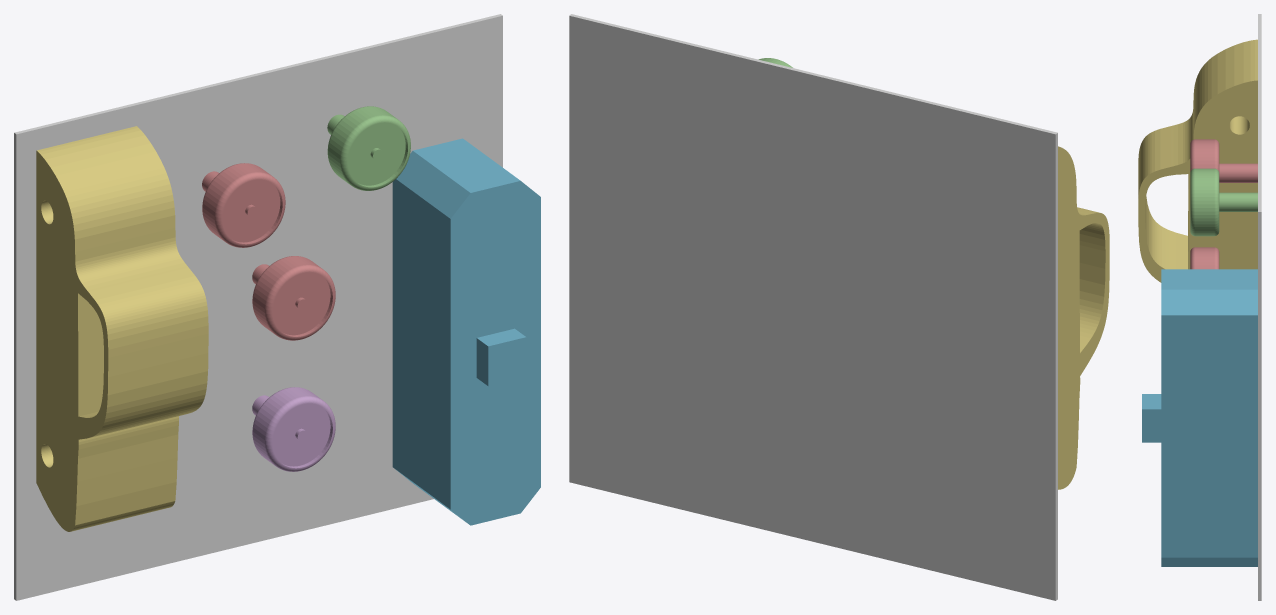
The model's file is pickup_layout.glb.
The picture shows the model from 3 angles, left to right: view 1: azimuth 30°, elevation 25°; view 2: azimuth 150°, elevation 25°; view 3: azimuth 270°, elevation 25°; orthographic projection. The views are drawn at different scales.
Parts seen in each view (by area): view 1: world, 1.obj, 2.obj, 5.obj, 3.obj, 0.obj, 4.obj; view 2: world, 1.obj; view 3: 2.obj, 1.obj, 4.obj, world, 5.obj, 0.obj.
Boxes of the visible parts, box(x1,y1,x2,y2) form: world: box(14, 14, 502, 600); 1.obj: box(36, 126, 208, 531); 2.obj: box(392, 138, 540, 525); 5.obj: box(202, 163, 285, 247); 3.obj: box(252, 387, 335, 471); 0.obj: box(252, 256, 335, 340); 4.obj: box(327, 106, 410, 190); world: box(569, 14, 1057, 600); 1.obj: box(1058, 146, 1109, 489); 2.obj: box(1142, 269, 1257, 566); 1.obj: box(1138, 39, 1257, 282); 4.obj: box(1190, 168, 1257, 236); world: box(1258, 14, 1261, 600); 5.obj: box(1190, 139, 1257, 182); 0.obj: box(1190, 247, 1219, 269).
Bounding box in the file's own units: 24.25 × 22.22 × 6.39.
